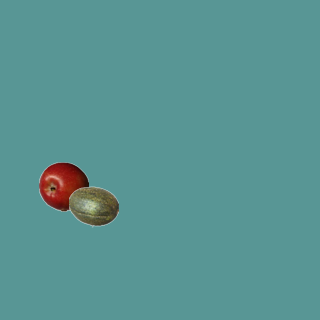Apple Braeburn: (38, 161, 88, 211)
Melon Piel de Sapo: (68, 181, 118, 231)
